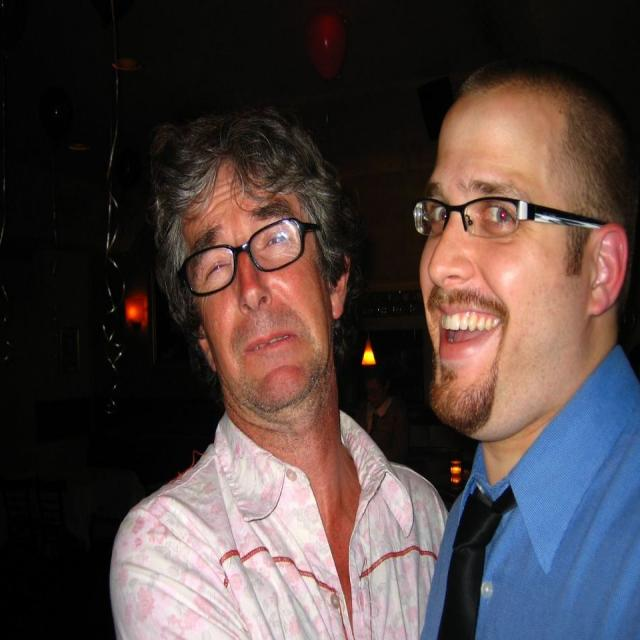Glasses: (411, 173, 618, 250), (179, 216, 324, 300)
